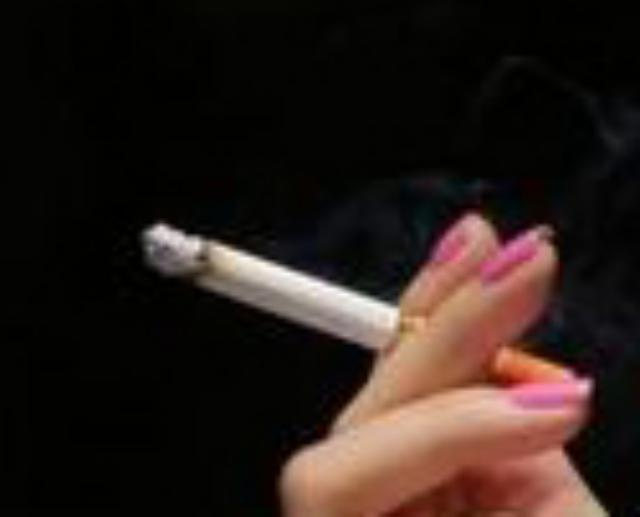Smoking: (137, 219, 578, 403)
